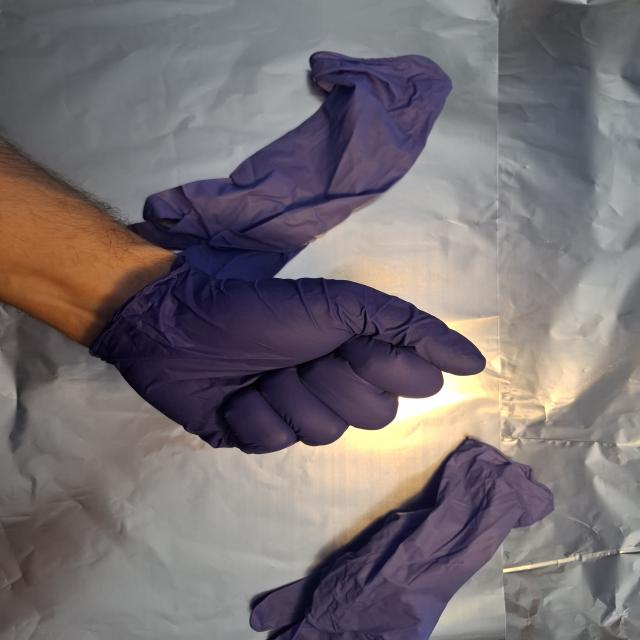glove_on: (93, 260, 491, 458)
